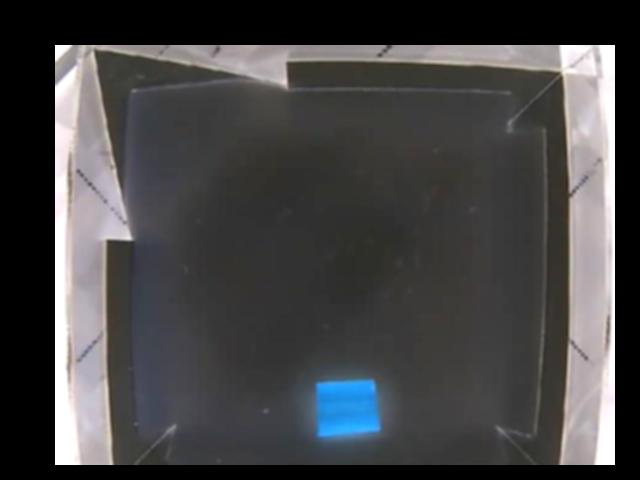Carrot: (311, 378, 383, 437)
